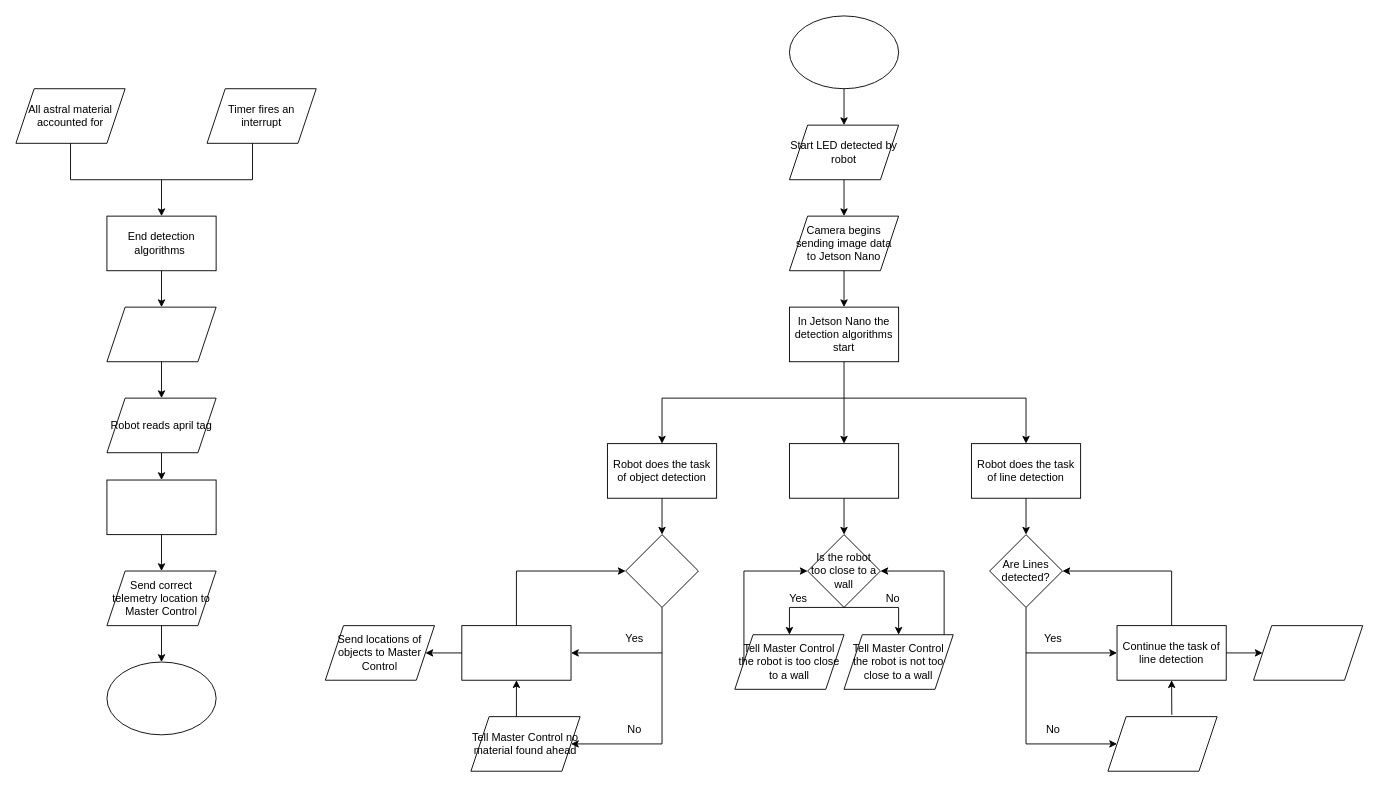
Some shapes in this 1379 by 787 pixel diagram are drawn without their labels. The shapes that lost their labels are listed below. From the top down, each one's centre as x and y in pixels, then its label:
point 844,52: Start
point 161,334: Robot in position
point 844,470: The robot does the task of image processing
point 161,507: Robot does line detection along with april tag value
point 661,570: Are astral materials detected?
point 516,652: Continue the task of object detection
point 1308,652: Send locations of lines to Master Control
point 161,698: End
point 1162,743: Tell Master Control no lines found ahead
